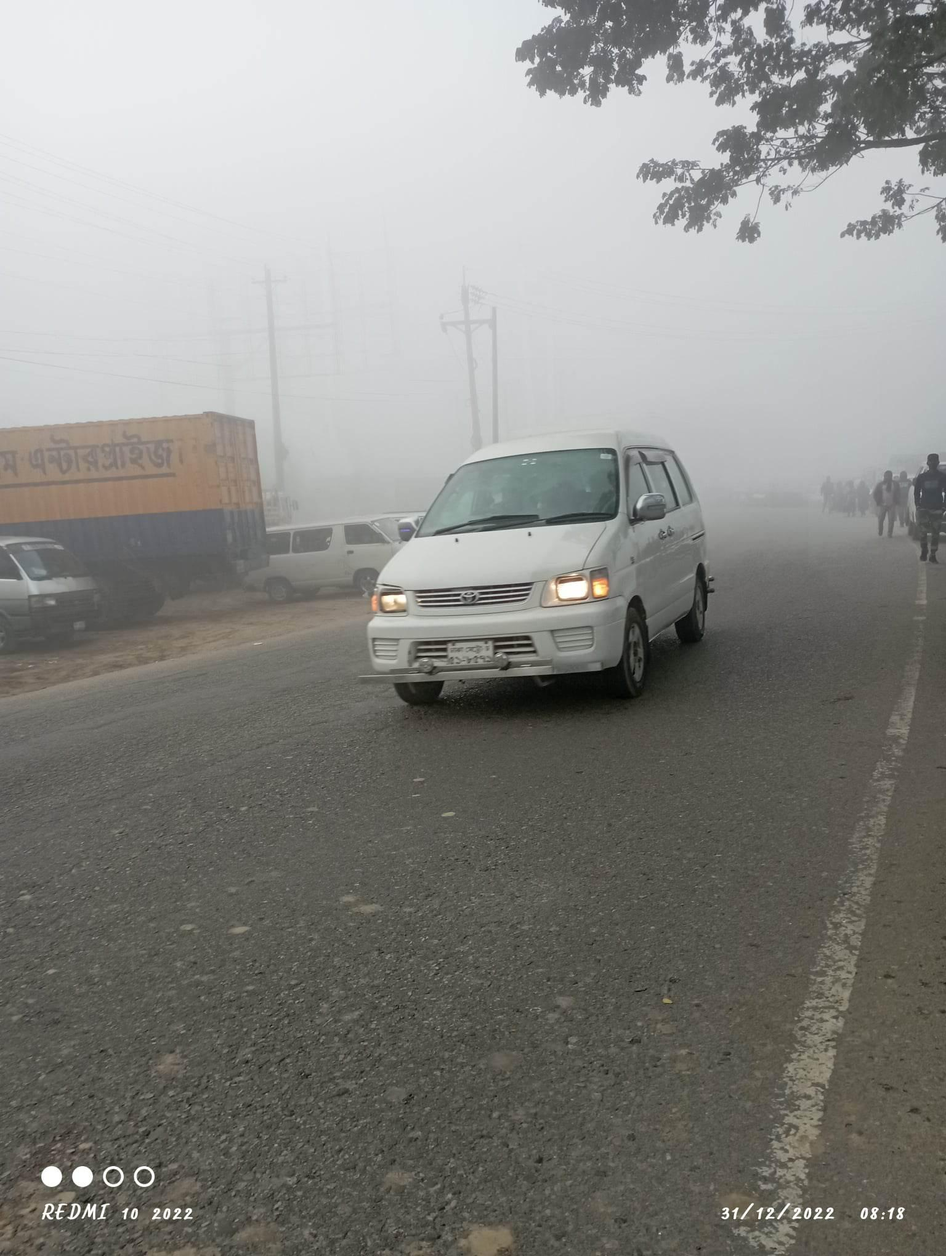Car: (354, 404, 727, 750), (267, 499, 413, 608), (1, 531, 107, 649)
Truck: (1, 400, 277, 603)
